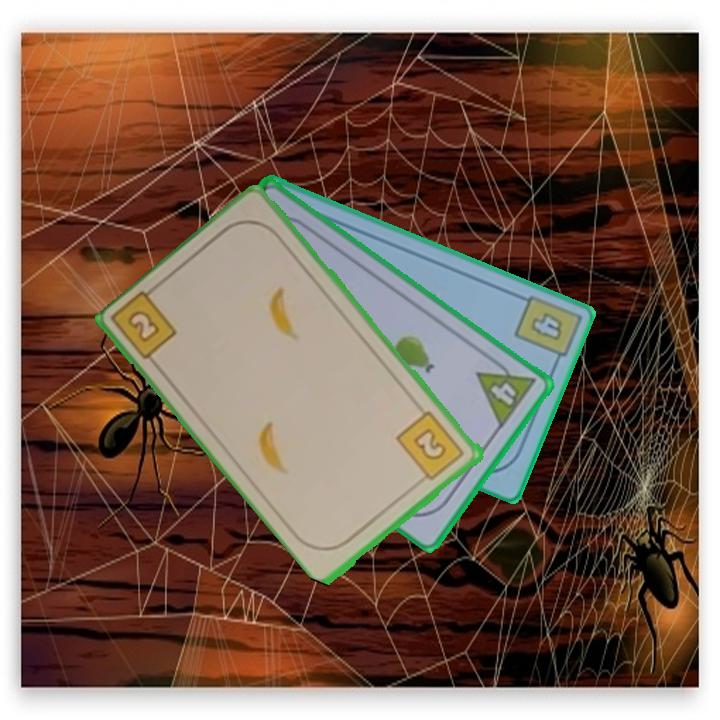2b: (393, 408, 468, 487), (124, 306, 164, 346)
4b: (511, 291, 582, 369)
4p: (473, 351, 539, 431)
